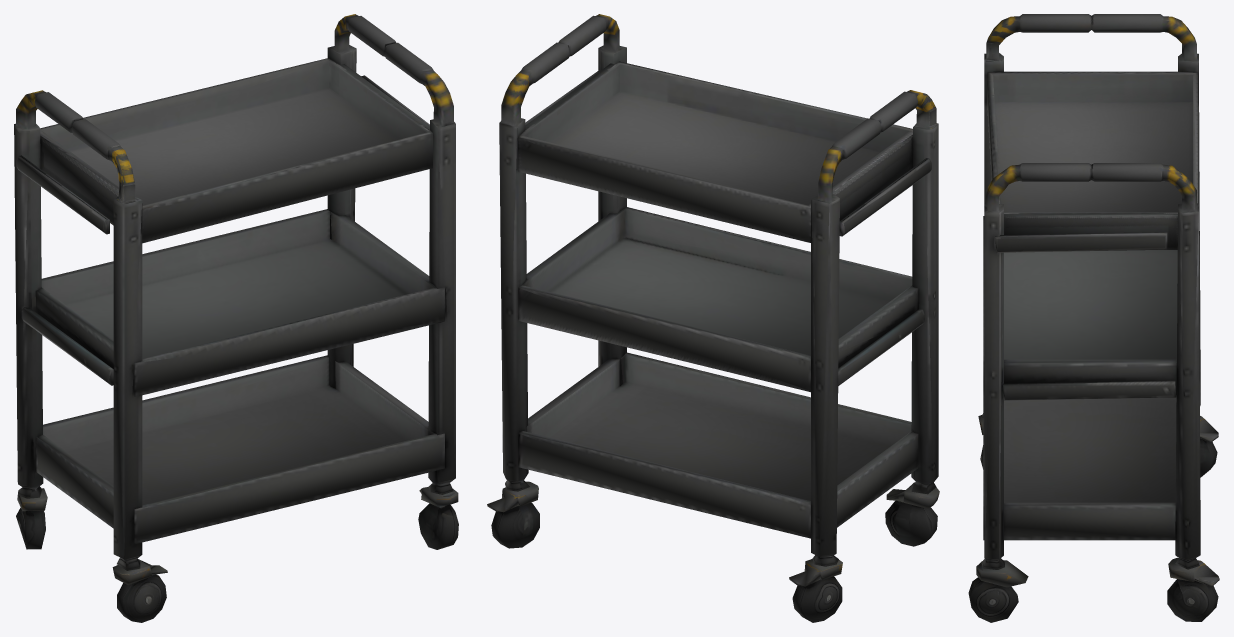
Rendered from RollingCart.fbx.
3 renders of one model, left to right at view 1: azimuth 30°, elevation 25°; view 2: azimuth 150°, elevation 25°; view 3: azimuth 270°, elevation 25°, orthographic. The views are drawn at different scales.
Parts seen in each view (by area): view 1: tripo_node_d40666c1; view 2: tripo_node_d40666c1; view 3: tripo_node_d40666c1.
Boxes of the visible parts, left/top/right/bottom form: tripo_node_d40666c1: left=14, top=14, right=458, bottom=622; tripo_node_d40666c1: left=487, top=14, right=939, bottom=622; tripo_node_d40666c1: left=968, top=14, right=1219, bottom=622.
Size of the model in its own units: 0.7676 by 0.998 by 0.498.
